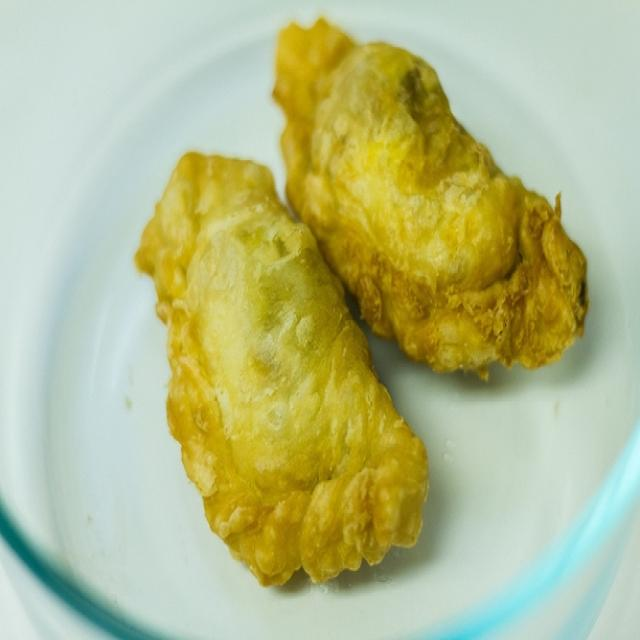炸货点心: (44, 24, 616, 599)
